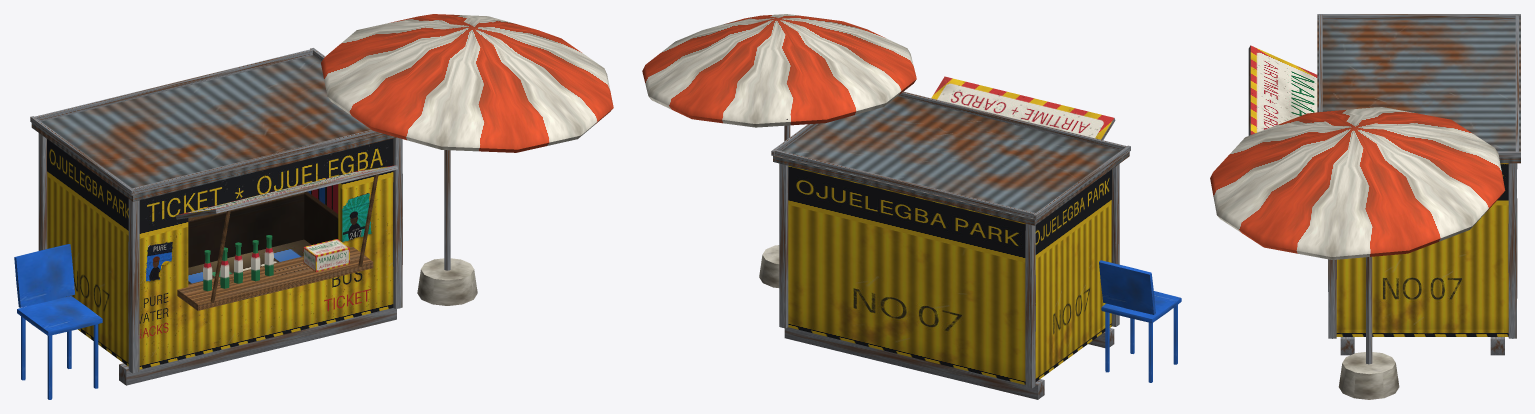
Rendered from env_kiosk-CaPKIqML.glb.
The picture shows the model from 3 angles, left to right: view 1: azimuth 30°, elevation 25°; view 2: azimuth 150°, elevation 25°; view 3: azimuth 270°, elevation 25°; orthographic projection. The views are drawn at different scales.
Visible parts, largest first — view 1: env_kiosk_body; view 2: env_kiosk_body; view 3: env_kiosk_body.
Part boxes in pixels (x1,y1,x2,y2): env_kiosk_body: (14,14,613,399); env_kiosk_body: (642,14,1181,399); env_kiosk_body: (1210,14,1520,399).
Bounding box in the file's own units: 3.59 × 1.65 × 1.74.
Materials: 1 (1 with a texture image).
